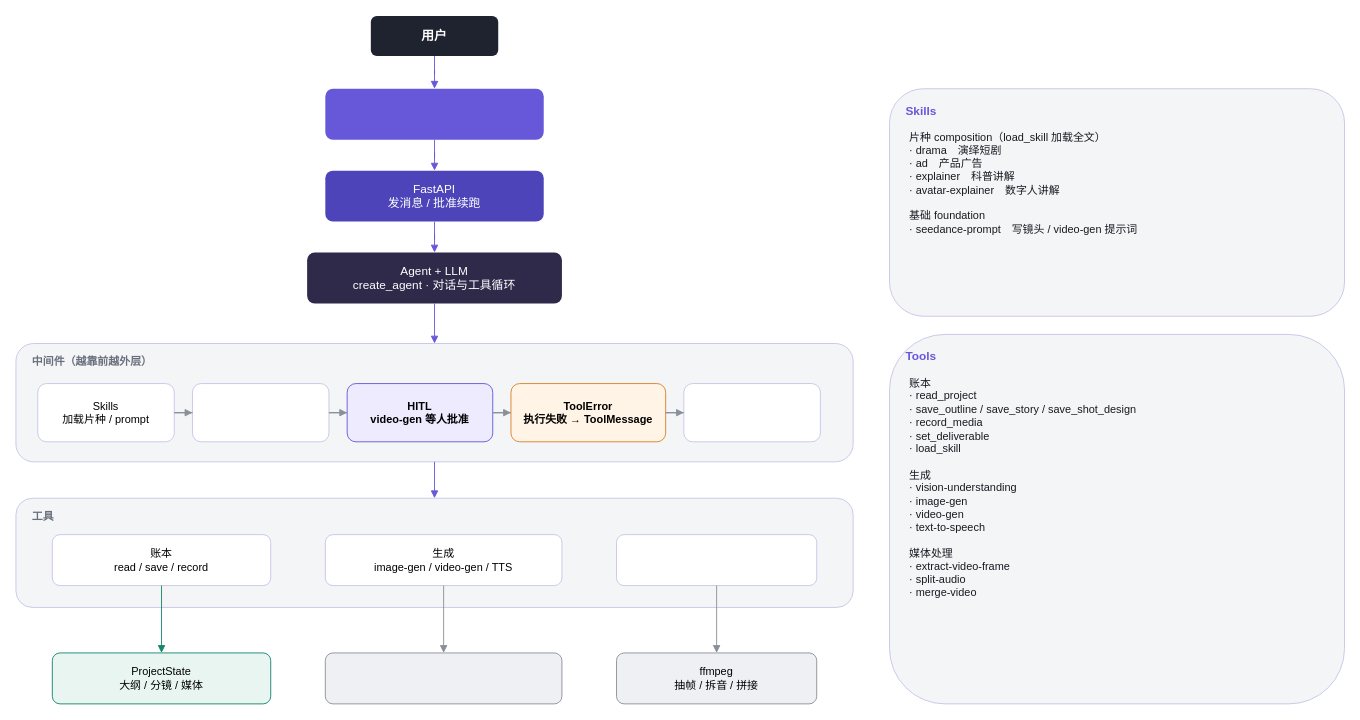
This 1360x720 diagram has some shape labels left out. The centre of each missing label's shape, as x and y in pixels:
Ark LLM / 图 / 视频: (443,678)
CallLimit 限制循环步数: (751,412)
StepPause 账本写完停一步: (260,412)
Studio 前端 对话 / 确认 video-gen: (434,113)
媒体处理 抽帧 / 拆音频 / 合并: (716,560)
